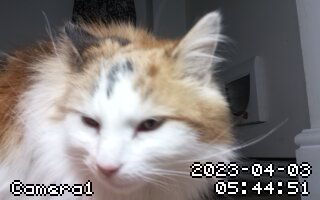clara: (35, 10, 243, 191)
